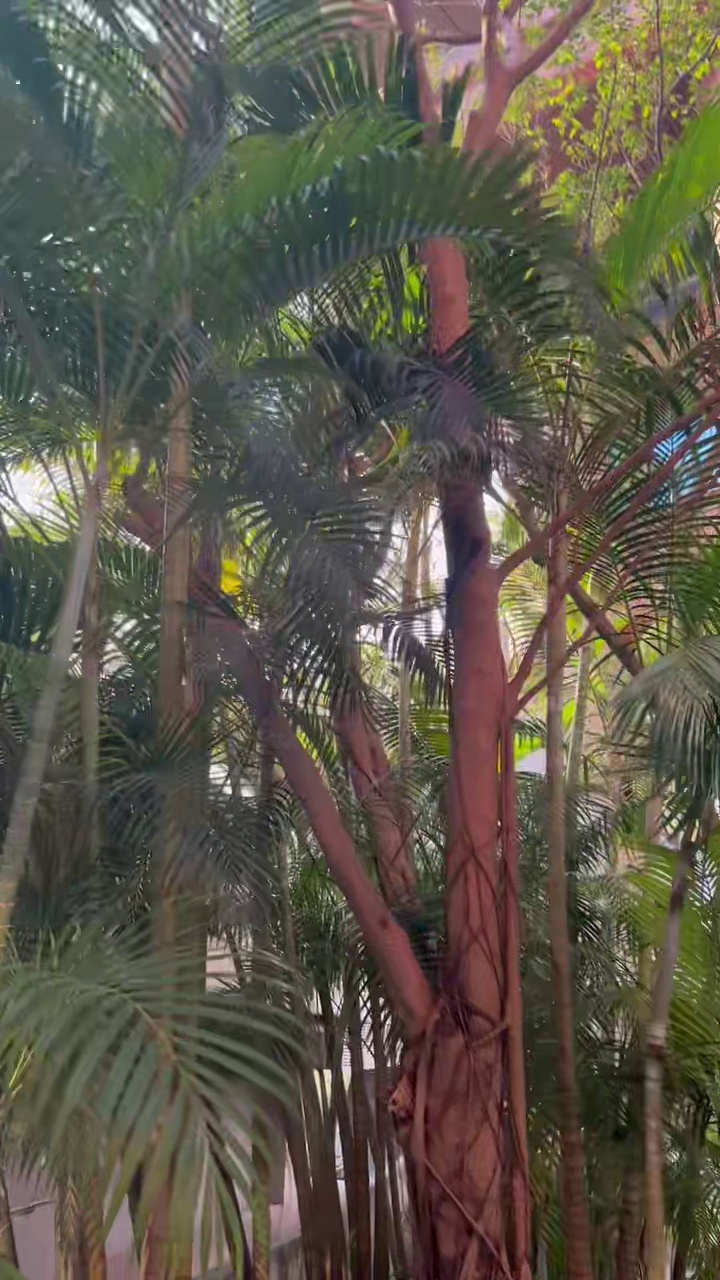Ficus benjamina: (243, 0, 592, 1279)
